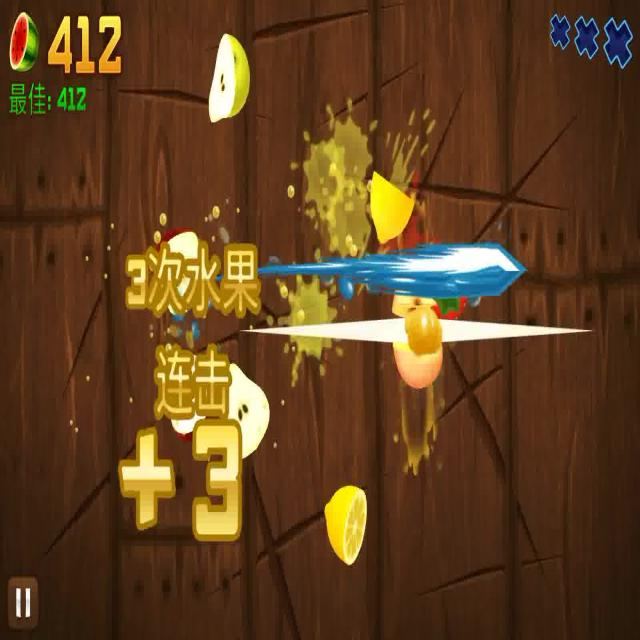fruit: (386, 286, 447, 381), (205, 28, 251, 128), (223, 363, 269, 459), (367, 167, 413, 247), (323, 487, 366, 565), (158, 238, 200, 304)
